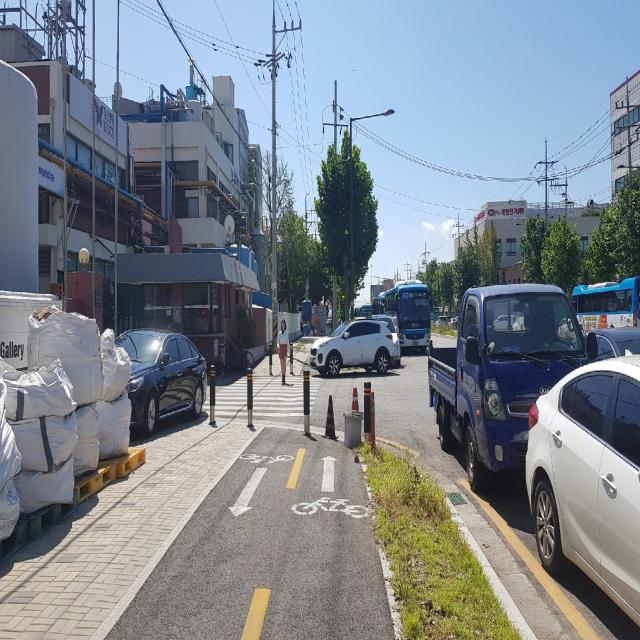횡단보도: (202, 376, 322, 418)
